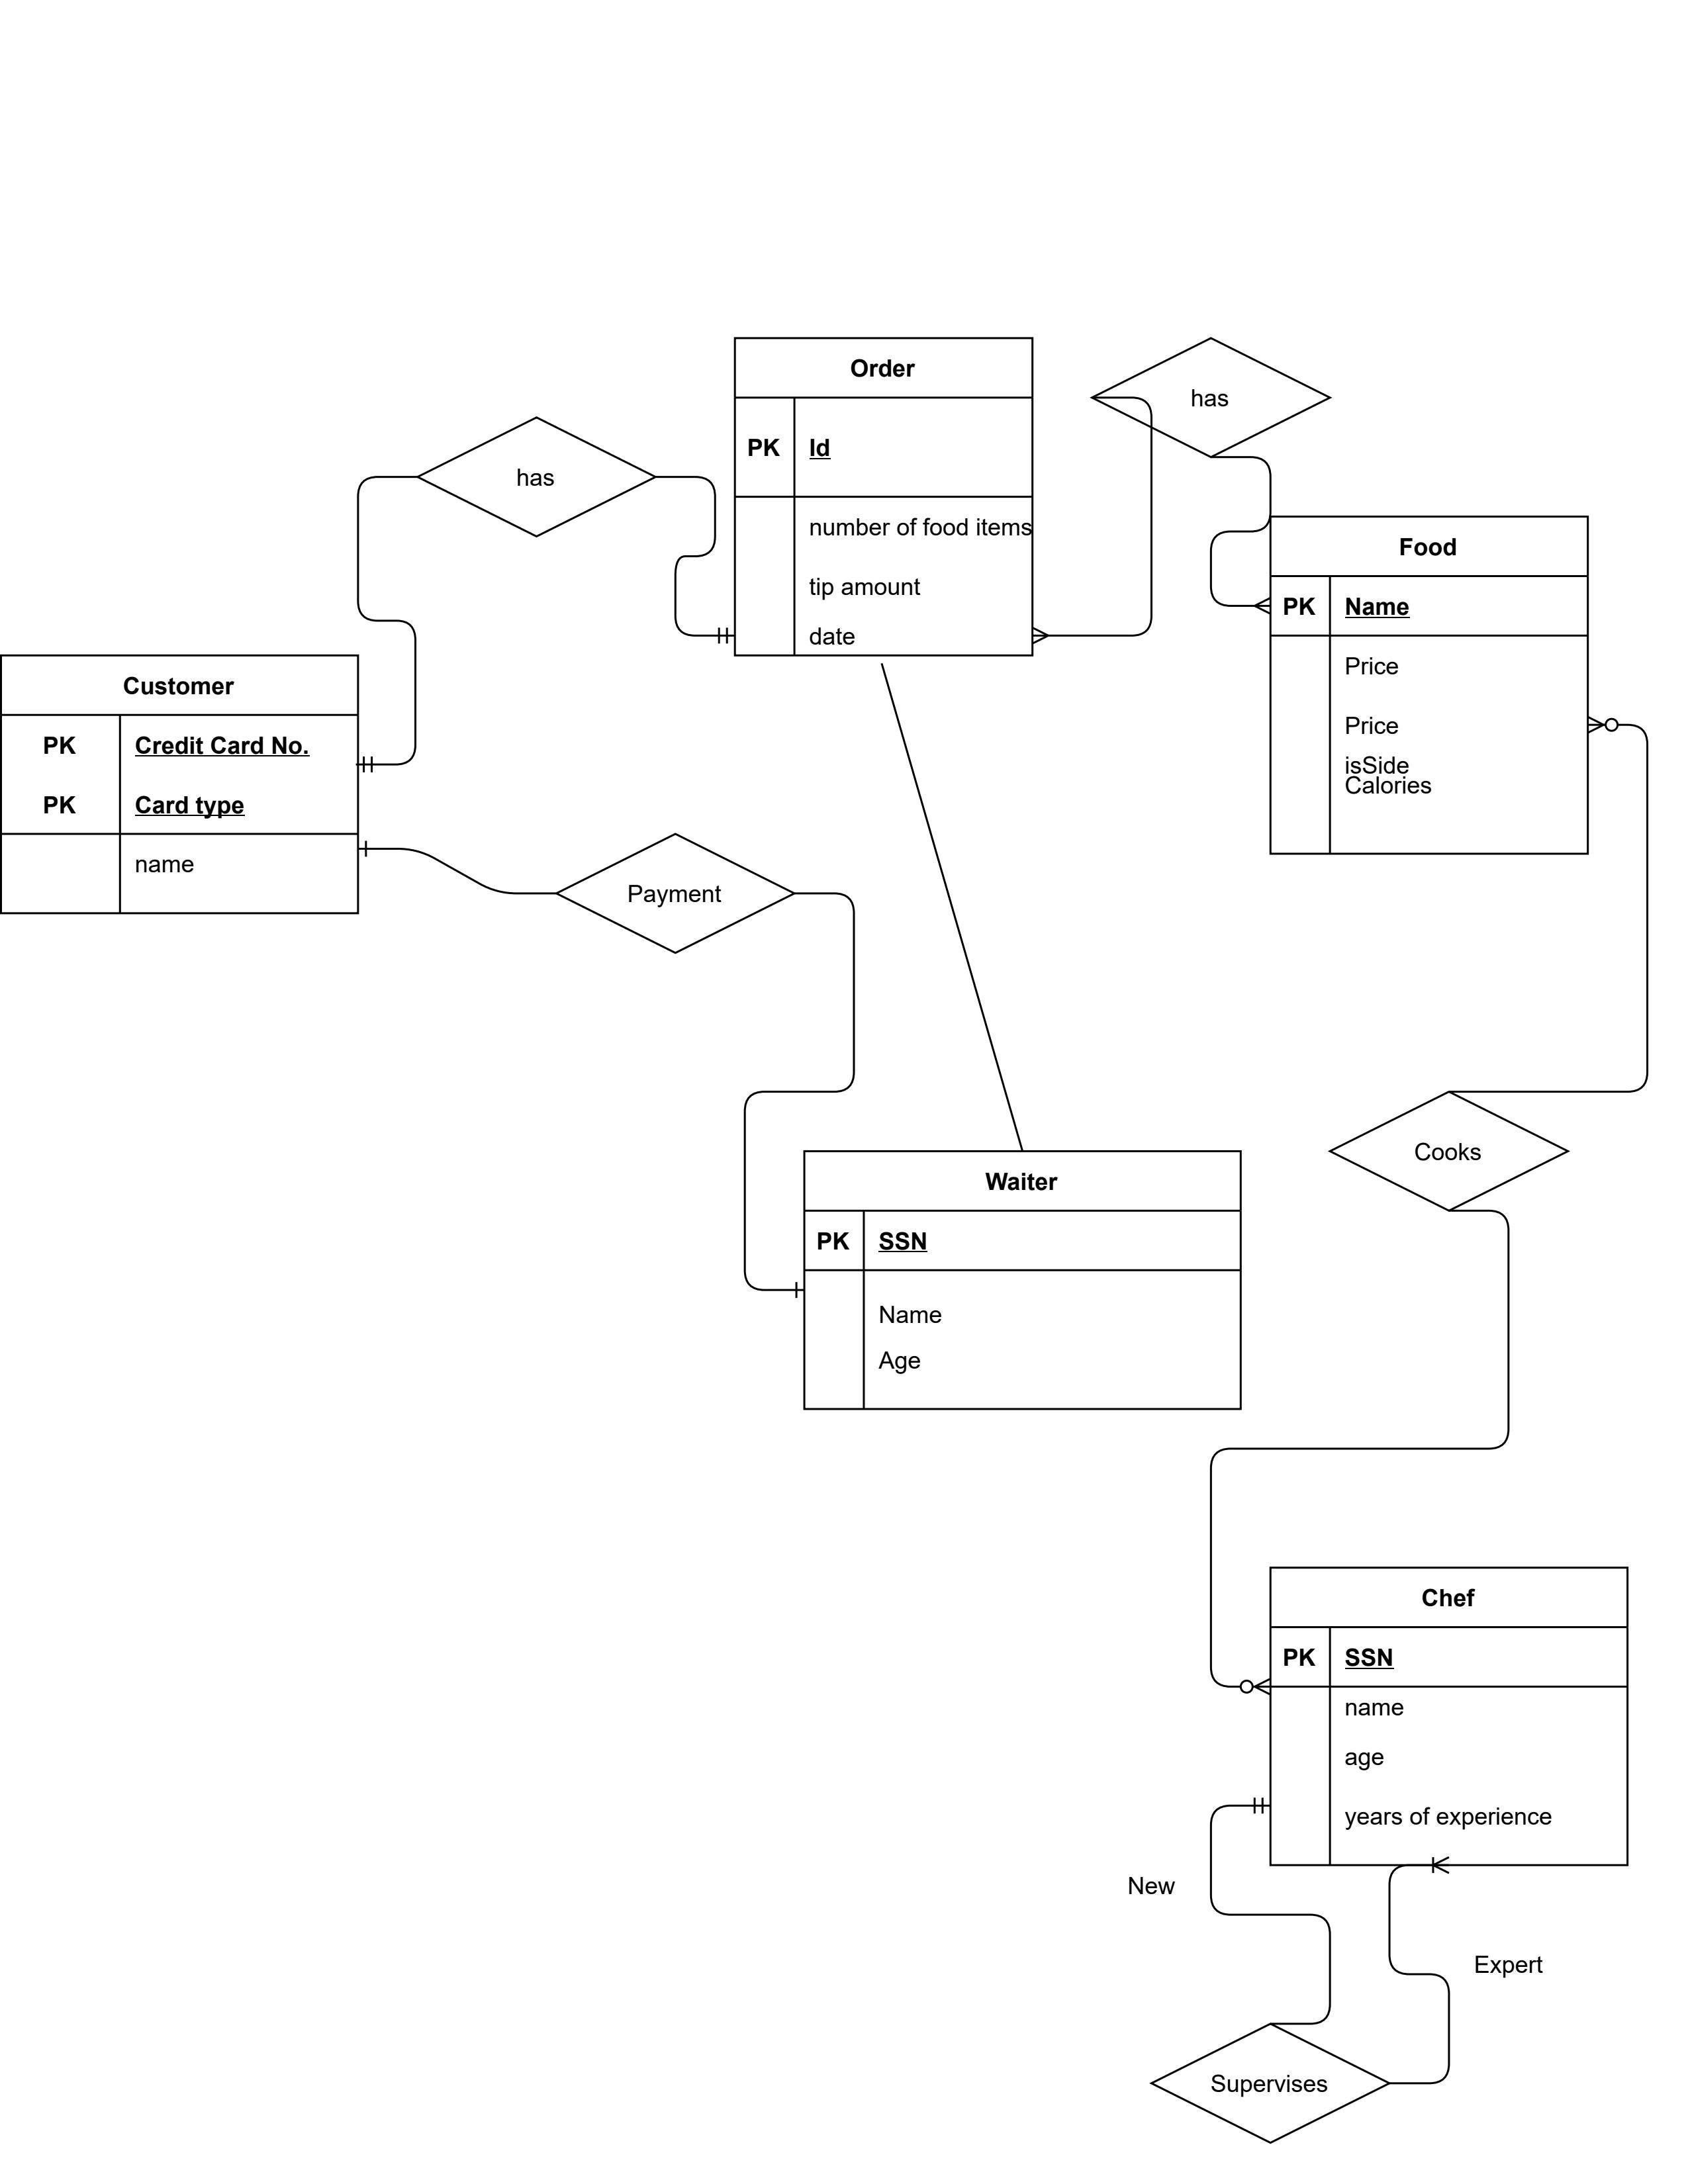Entity: (785, 1138, 1259, 1427), (1252, 1558, 1640, 1890), (1255, 512, 1603, 870), (727, 331, 1041, 672), (0, 642, 372, 927)
Relationship: (1090, 335, 1339, 459), (418, 417, 660, 542), (1328, 1088, 1573, 1211), (1149, 2023, 1392, 2145), (557, 831, 793, 956)
